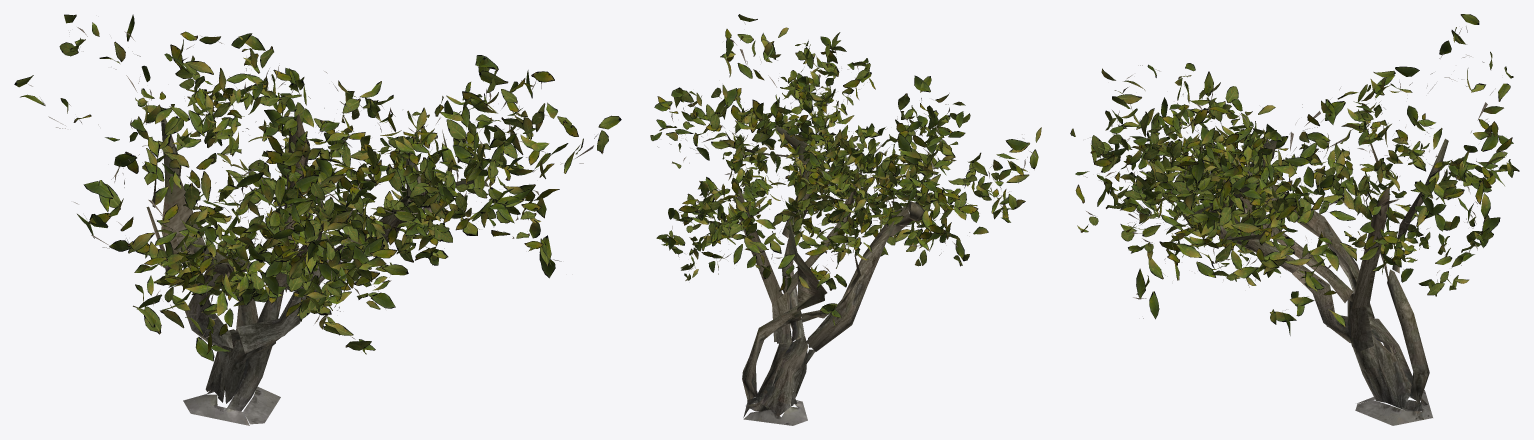
The model's file is island_tree_02.glb.
The picture shows the model from 3 angles, left to right: view 1: azimuth 30°, elevation 25°; view 2: azimuth 150°, elevation 25°; view 3: azimuth 270°, elevation 25°; orthographic projection. The views are drawn at different scales.
Parts seen in each view (by area): view 1: island_tree_02_LOD0.002, island_tree_02_LOD0.001, island_tree_02_LOD0; view 2: island_tree_02_LOD0.002, island_tree_02_LOD0.001, island_tree_02_LOD0; view 3: island_tree_02_LOD0.002, island_tree_02_LOD0.001, island_tree_02_LOD0.
Part boxes in pixels (x1,y1,x2,y2): island_tree_02_LOD0.002: (14, 14, 621, 361); island_tree_02_LOD0.001: (146, 114, 488, 425); island_tree_02_LOD0: (28, 27, 597, 351); island_tree_02_LOD0.002: (650, 14, 1041, 325); island_tree_02_LOD0.001: (725, 126, 924, 425); island_tree_02_LOD0: (657, 22, 1036, 307); island_tree_02_LOD0.002: (1070, 14, 1519, 335); island_tree_02_LOD0.001: (1150, 137, 1448, 425); island_tree_02_LOD0: (1085, 26, 1506, 318).
Bounding box in the file's own units: 3.89 × 3.37 × 4.
3 materials, 3 textured.
